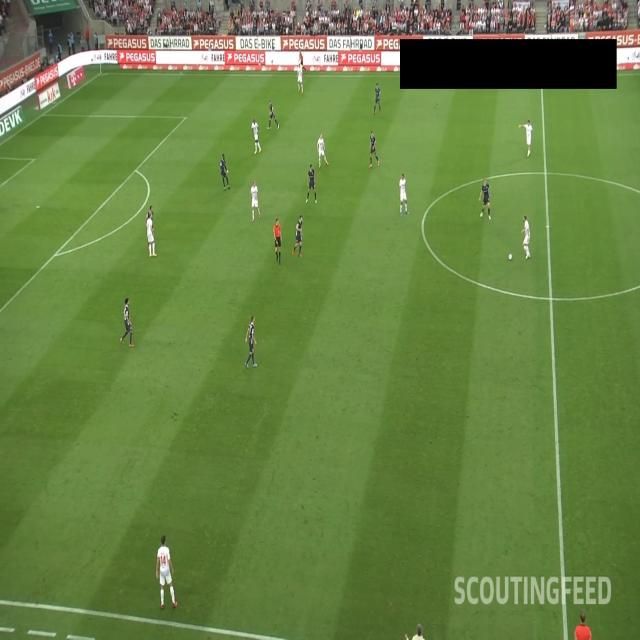ball: (508, 252, 512, 262)
